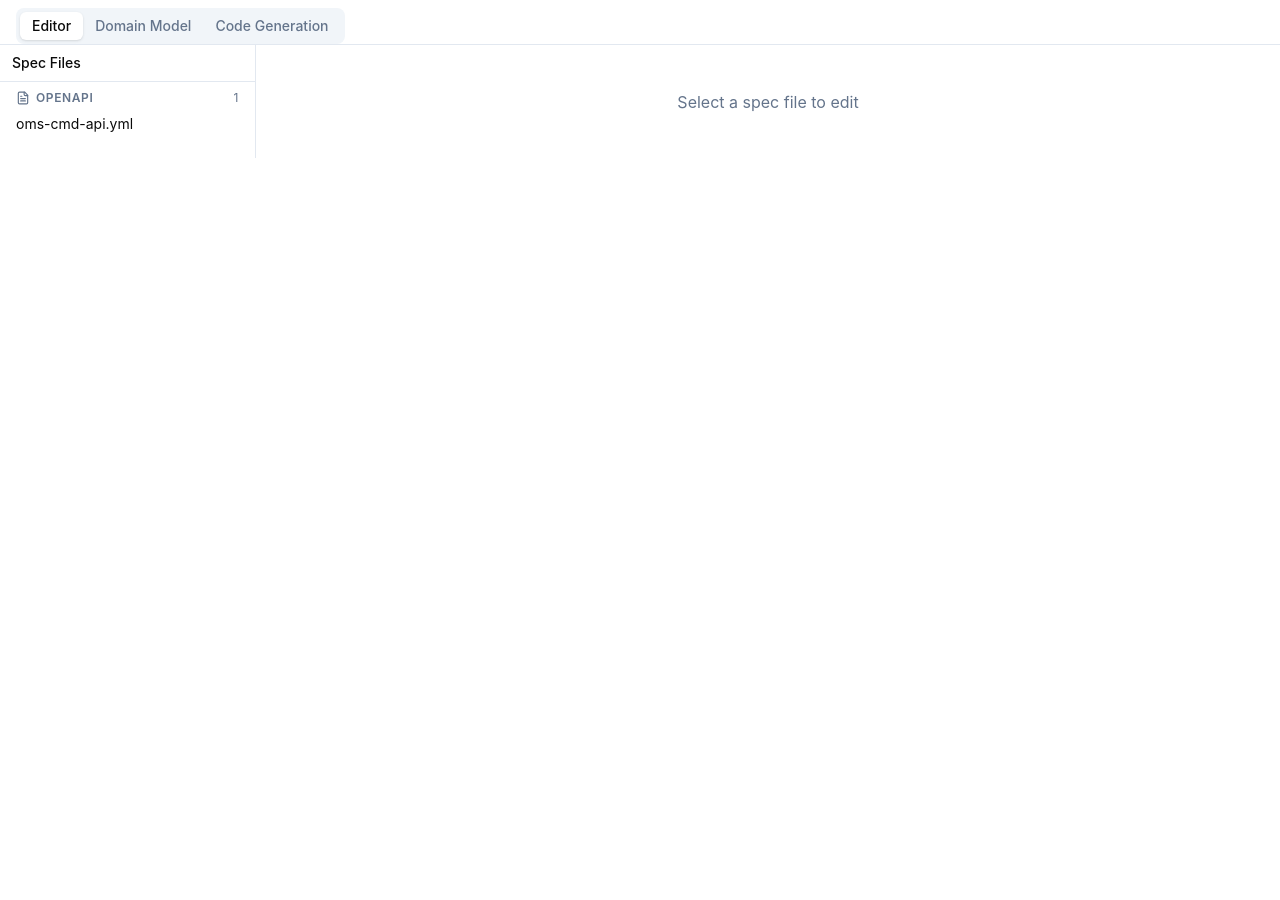
Test: Contracts view › Contracts shows Editor, Domain Model and Code Generation tabs with their content
Expected: the text "oms-cmd-api.yml" is shown, [16,114,133,134]
Press the mouse on the tab "Domain Model" at {"x": 143, "y": 26}, box [83,12,203,40]
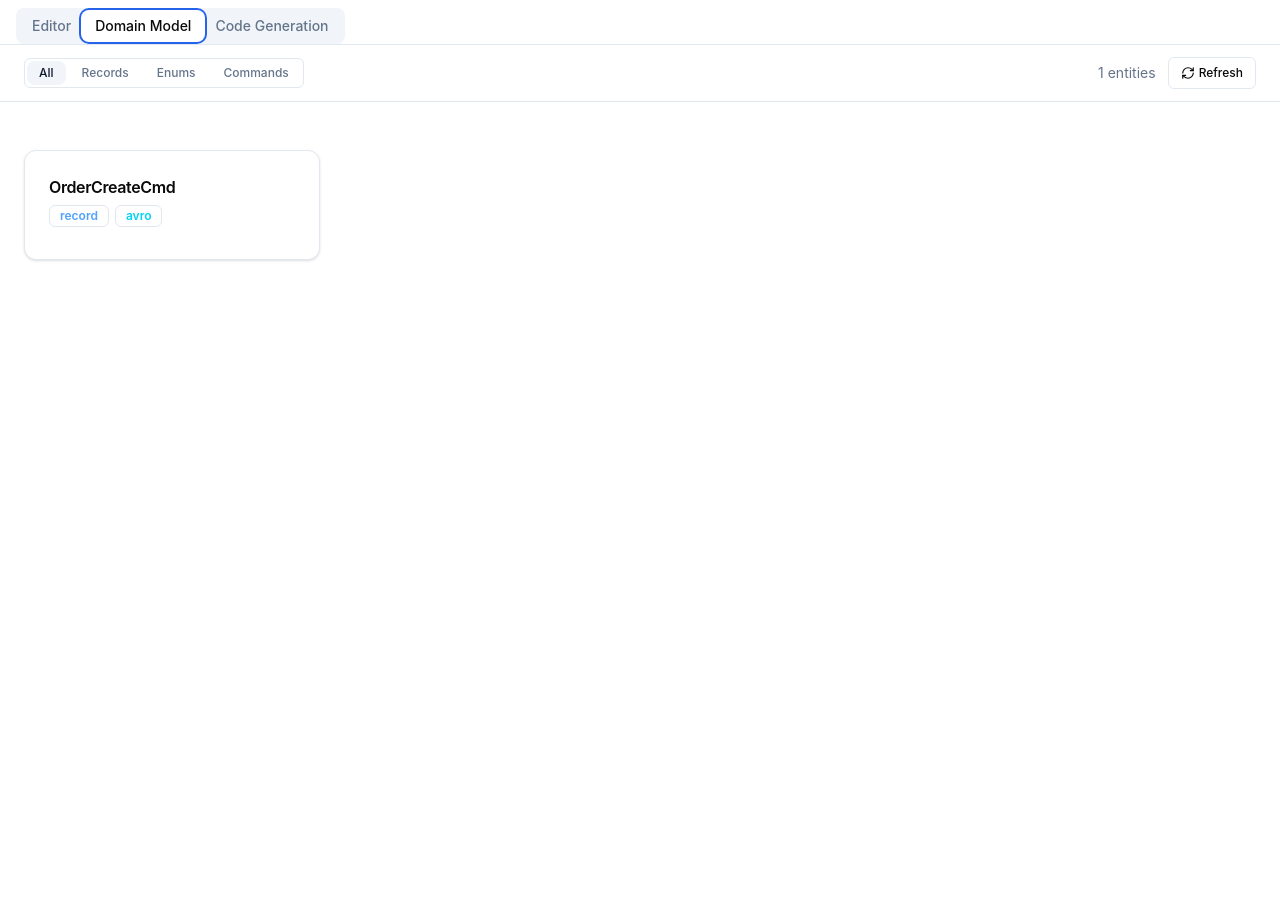
Expected: the number of tabs "Domain Model" is 1, [83,12,203,40]
Now the heading "OrderCreateCmd" is shown, box [49,175,175,199]
Press the mouse on the tab "Code Generation" at {"x": 272, "y": 26}, box [203,12,341,40]
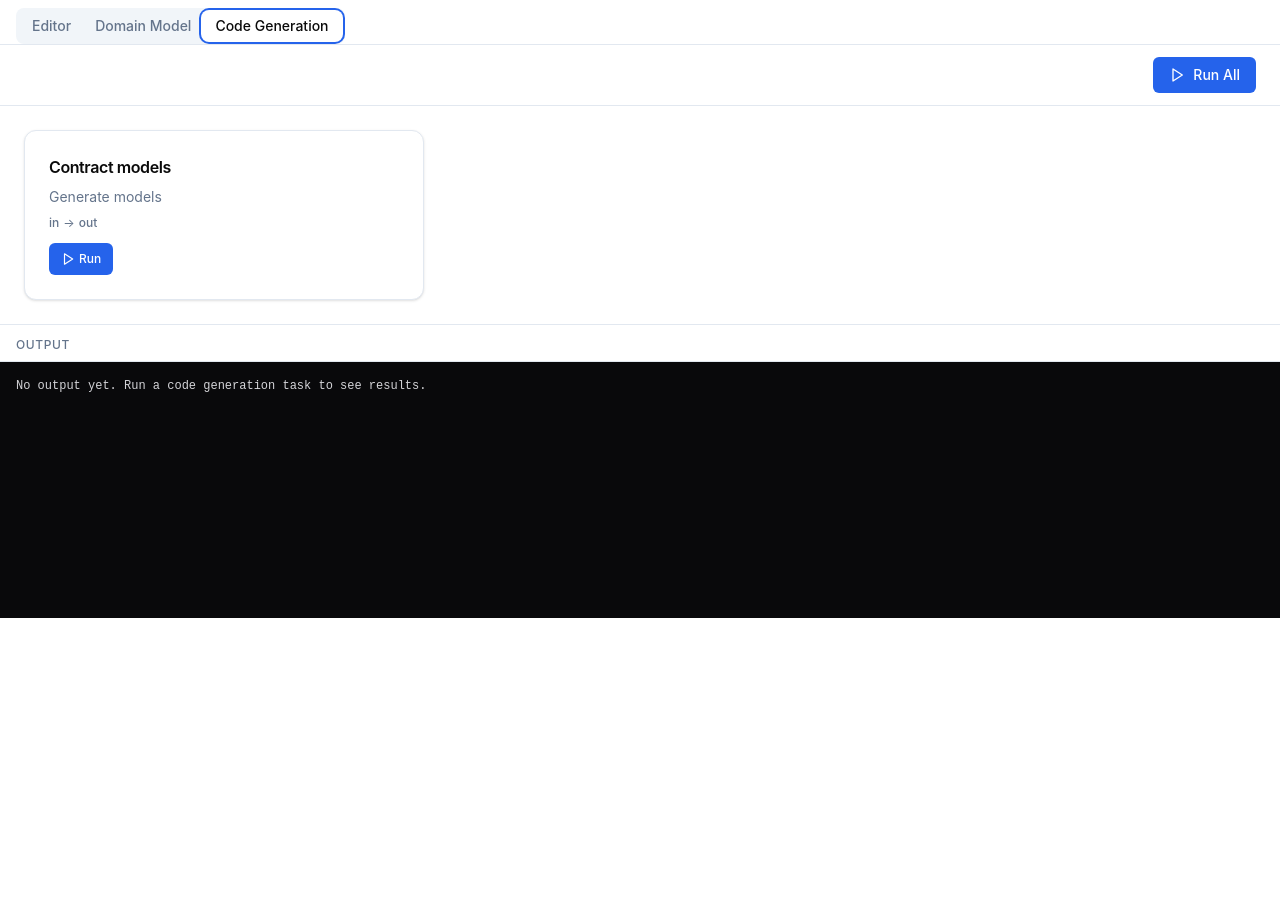
Now the heading "Contract models" is shown, box [49,157,171,177]
